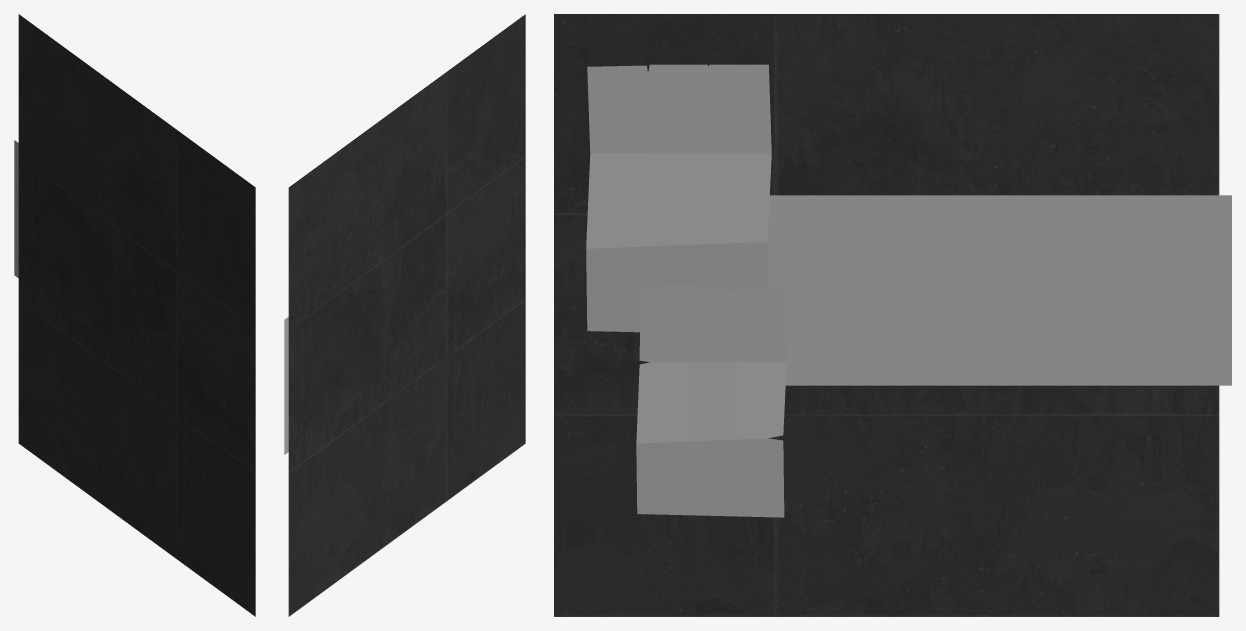
The model's file is Wall_3.fbx.
3 views of the same model, side by side, from view 1: azimuth 30°, elevation 25°; view 2: azimuth 150°, elevation 25°; view 3: azimuth 270°, elevation 25° (orthographic). The views are drawn at different scales.
Parts seen in each view (by area): view 1: Wall, Graffito; view 2: Wall, Graffito; view 3: Wall, Graffito, StarWars, Tramonto.
Boxes of the visible parts, box(x1,y1,x2,y2) form: Wall: box(18, 14, 255, 616); Graffito: box(14, 140, 18, 277); Wall: box(288, 14, 525, 616); Graffito: box(284, 317, 288, 454); Wall: box(554, 14, 1219, 616); Graffito: box(767, 195, 1231, 385); StarWars: box(586, 64, 771, 332); Tramonto: box(636, 286, 786, 517).
Bounding box in the file's own units: 19.13 × 1000 × 1019.
